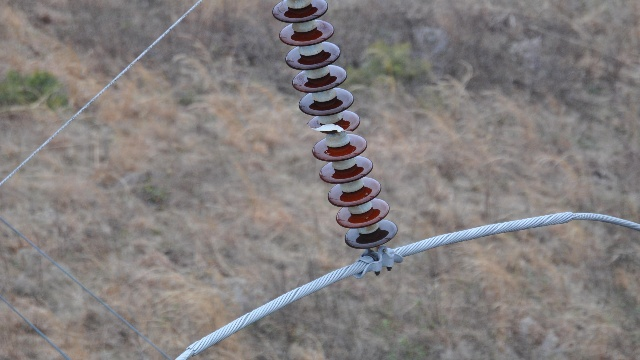broken_local: (306, 119, 357, 135)
insulator_unspecified: (272, 0, 396, 249)
